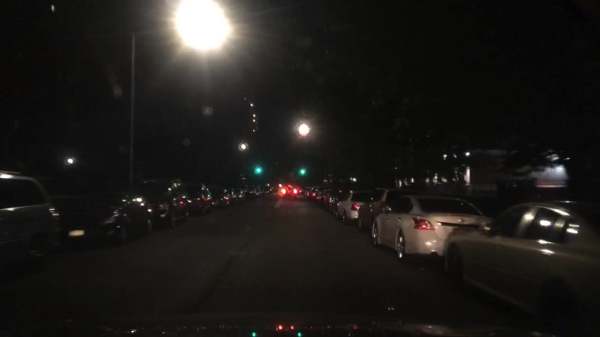car: (443, 197, 599, 331), (370, 194, 493, 262), (1, 169, 62, 269), (63, 189, 157, 248), (357, 189, 423, 232), (134, 178, 189, 228), (335, 189, 384, 224), (183, 183, 213, 215), (323, 186, 346, 212), (211, 188, 230, 209), (279, 185, 297, 200), (318, 188, 332, 206), (311, 184, 326, 200), (229, 188, 238, 205), (236, 187, 245, 203), (298, 185, 310, 196), (253, 187, 265, 198), (305, 185, 316, 196), (267, 186, 277, 193)
traffic light: (253, 163, 264, 176), (297, 168, 309, 177)
